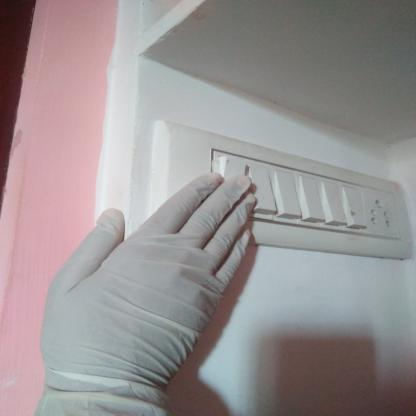gloved_hand: (22, 169, 257, 413)
